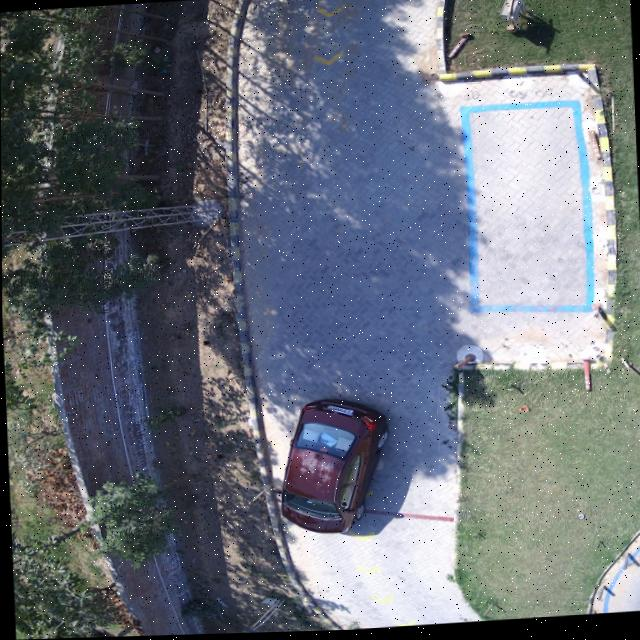car: (276, 399, 387, 535)
